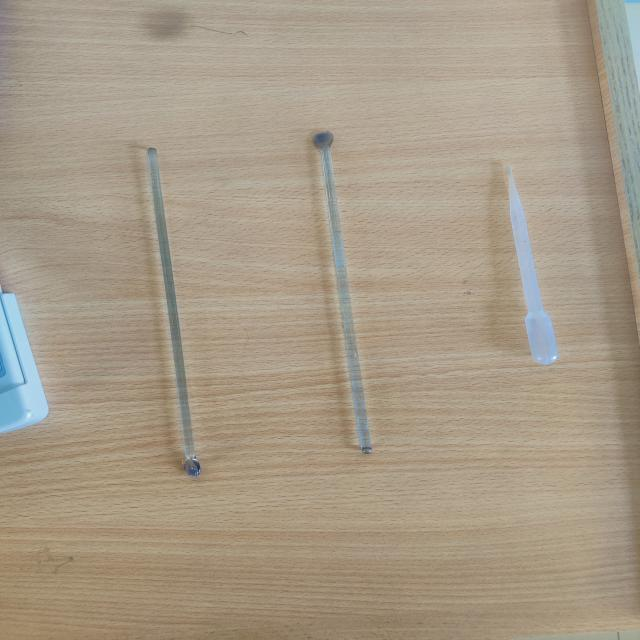Glass_Rod: (284, 114, 427, 473), (113, 126, 244, 488)
Pipette: (478, 152, 594, 393)
